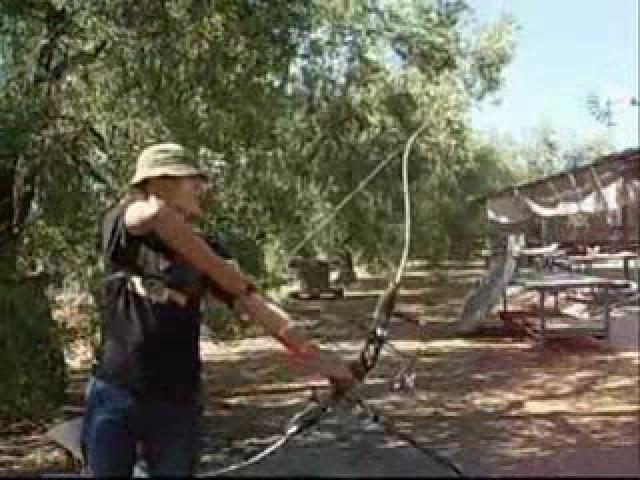I: (70, 126, 376, 480)
